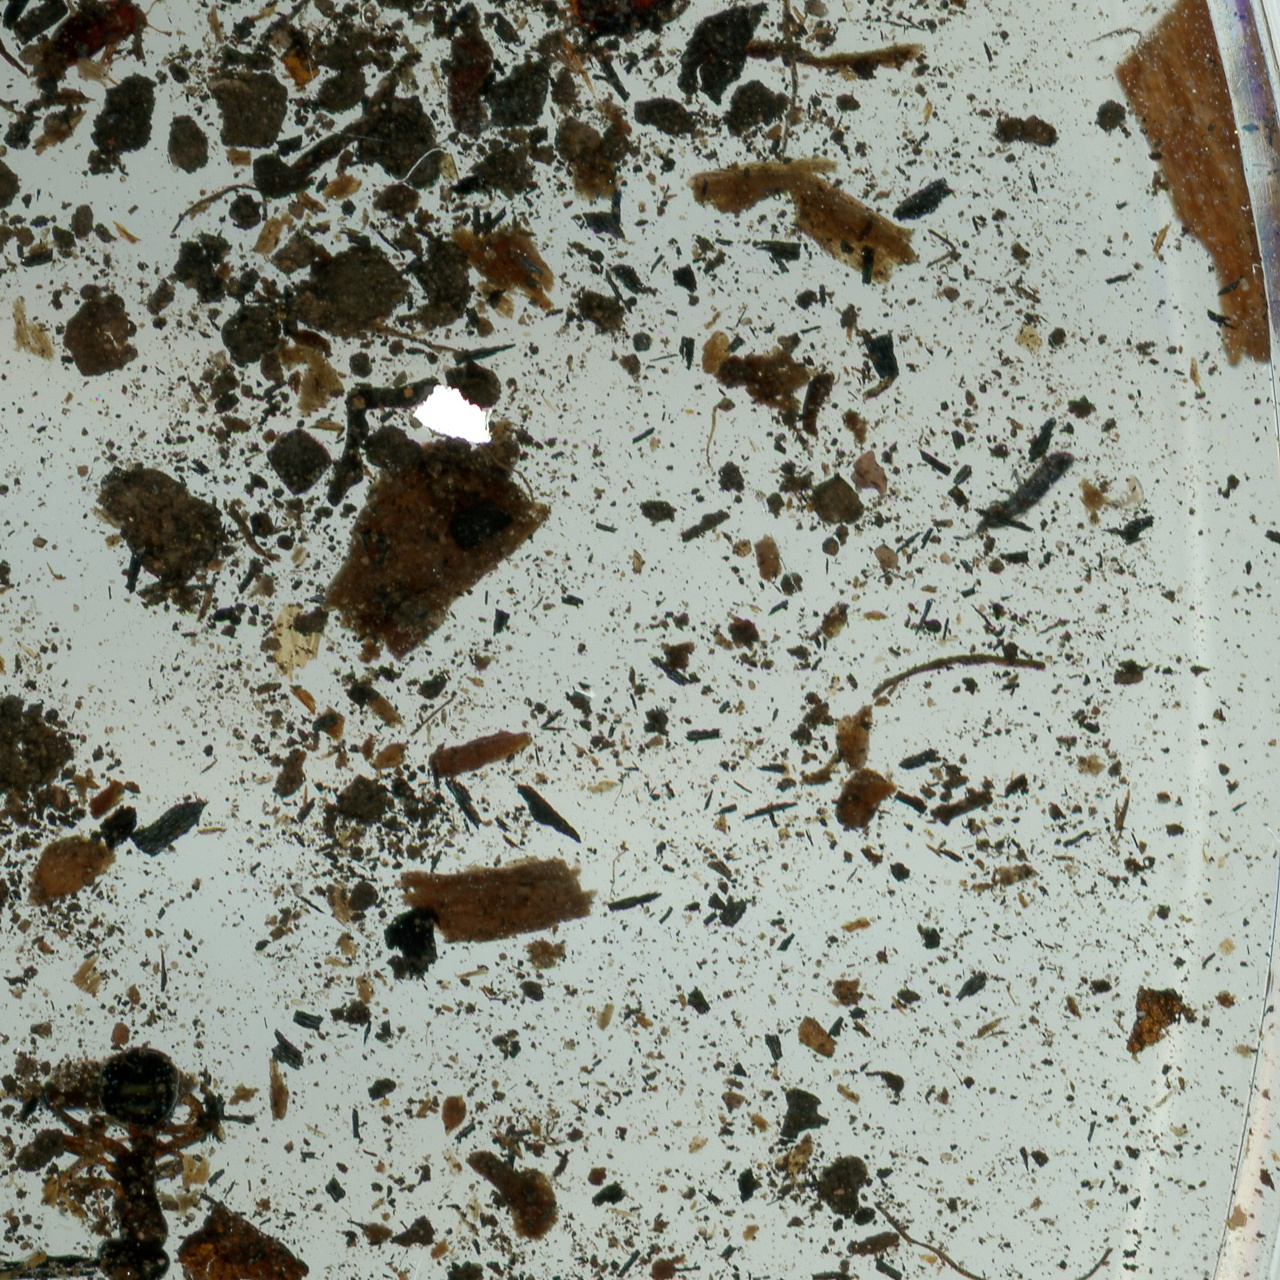arthropod: (474, 0, 696, 112), (933, 432, 1091, 557), (19, 0, 180, 96), (1102, 471, 1147, 515)
